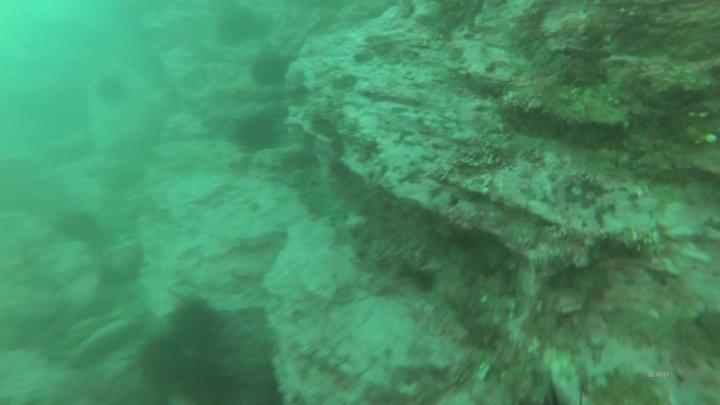echinus: (165, 295, 225, 354), (138, 337, 189, 387), (181, 355, 230, 403), (218, 5, 267, 51), (235, 112, 282, 156), (251, 53, 289, 91), (60, 212, 99, 247), (95, 74, 132, 108)
